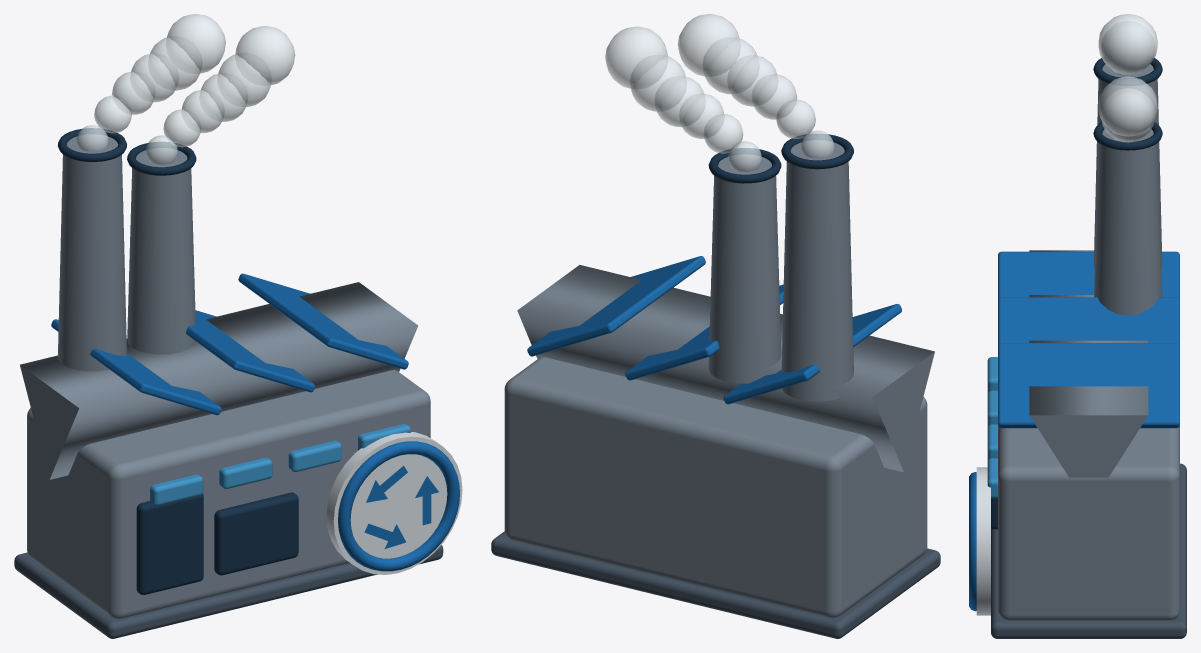
File: company-emitter-collector.glb
The picture shows the model from 3 angles, left to right: view 1: azimuth 30°, elevation 25°; view 2: azimuth 150°, elevation 25°; view 3: azimuth 270°, elevation 25°; orthographic projection. The views are drawn at different scales.
Size of the model in its own units: 14.68 by 21.14 by 7.78.
